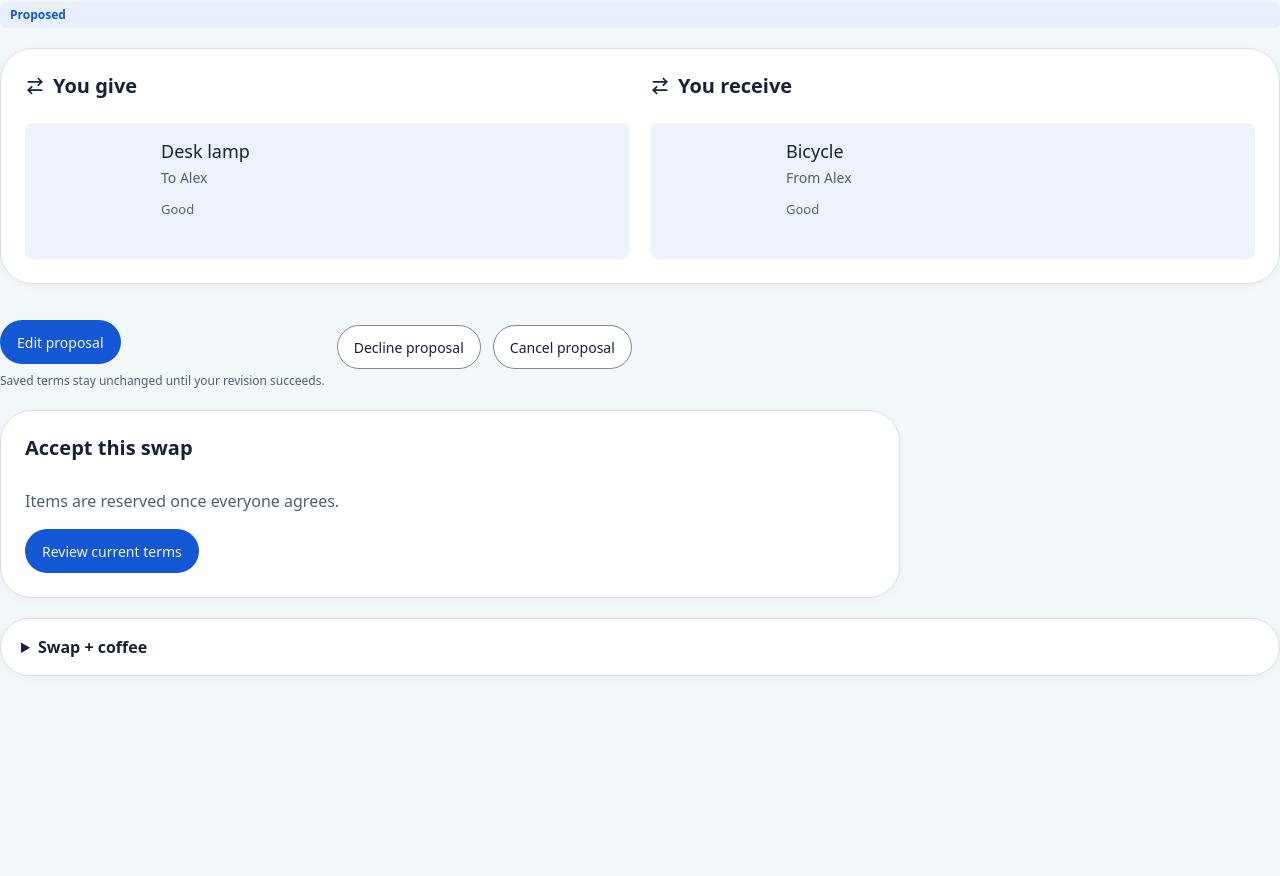
Test case: failed current-term refresh keeps the reviewed context and blocks acceptance until fresh review
This screenshot has width=1280, height=876.
Click the button "Review current terms": point(112, 551) x1=25 y1=529 x2=199 y2=573
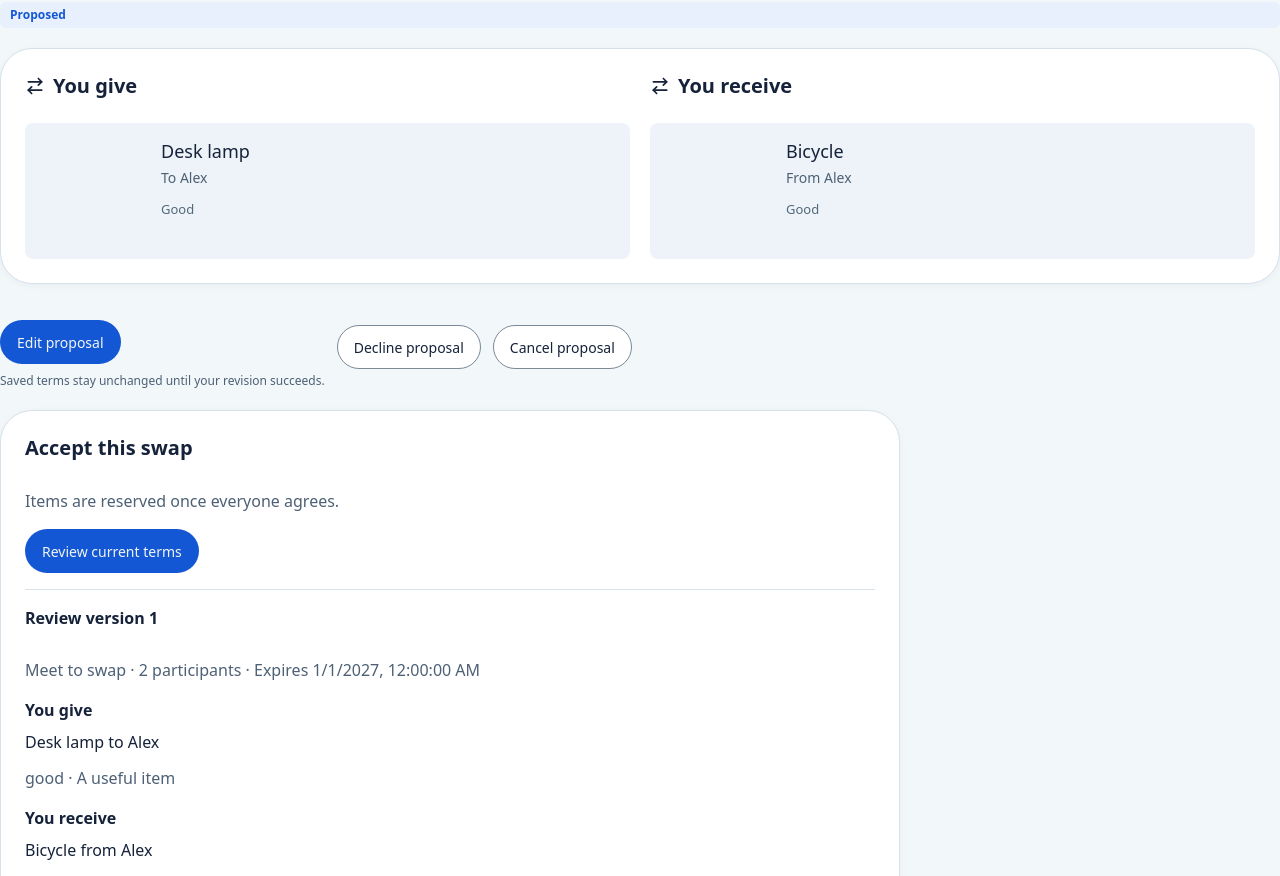
Click the button "Review current terms": point(112, 551) x1=25 y1=529 x2=199 y2=573
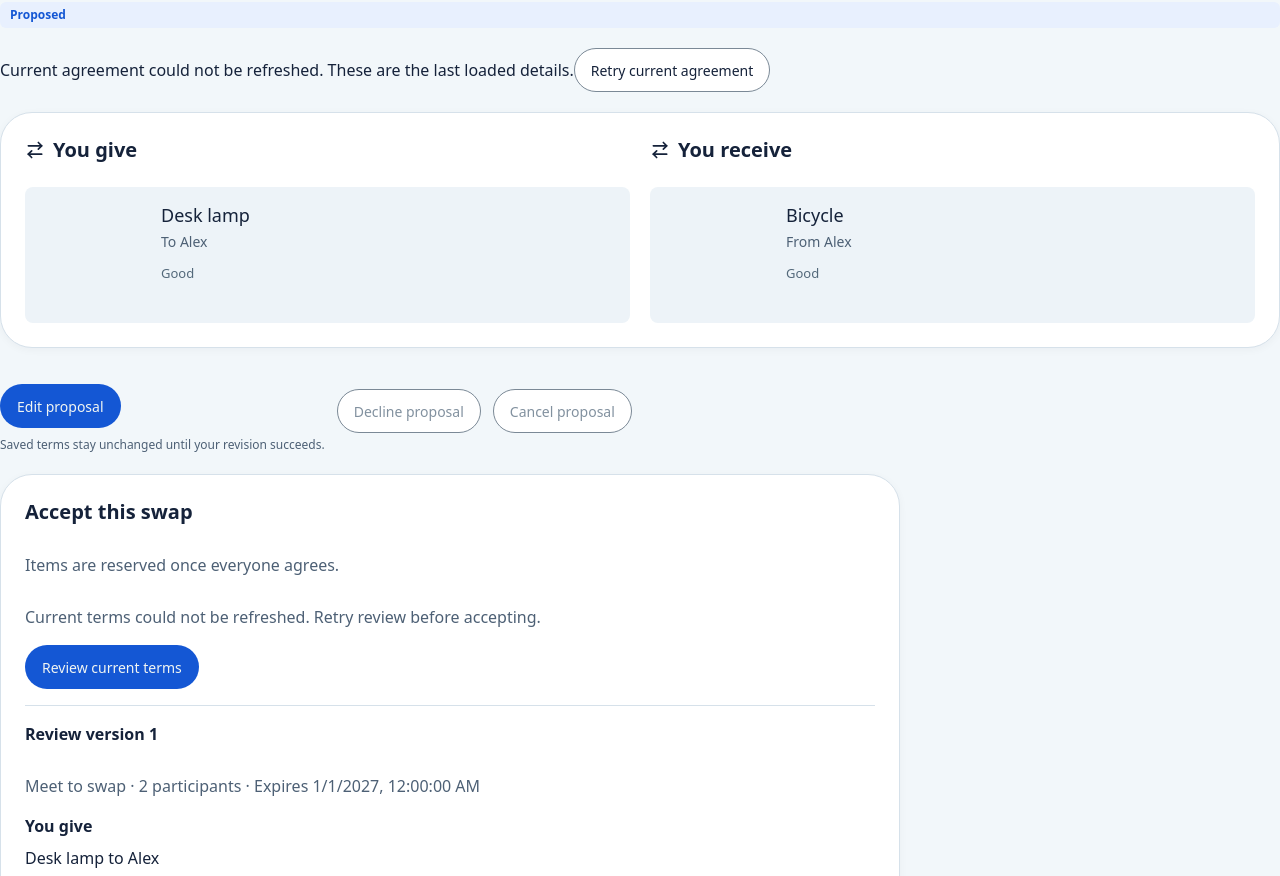
Expected: the text "Current terms could not be refreshed. Retry review before accepting." is shown, x1=25 y1=606 x2=541 y2=628
Click the button "Review current terms": point(112, 667) x1=25 y1=645 x2=199 y2=689
(page scrolled)
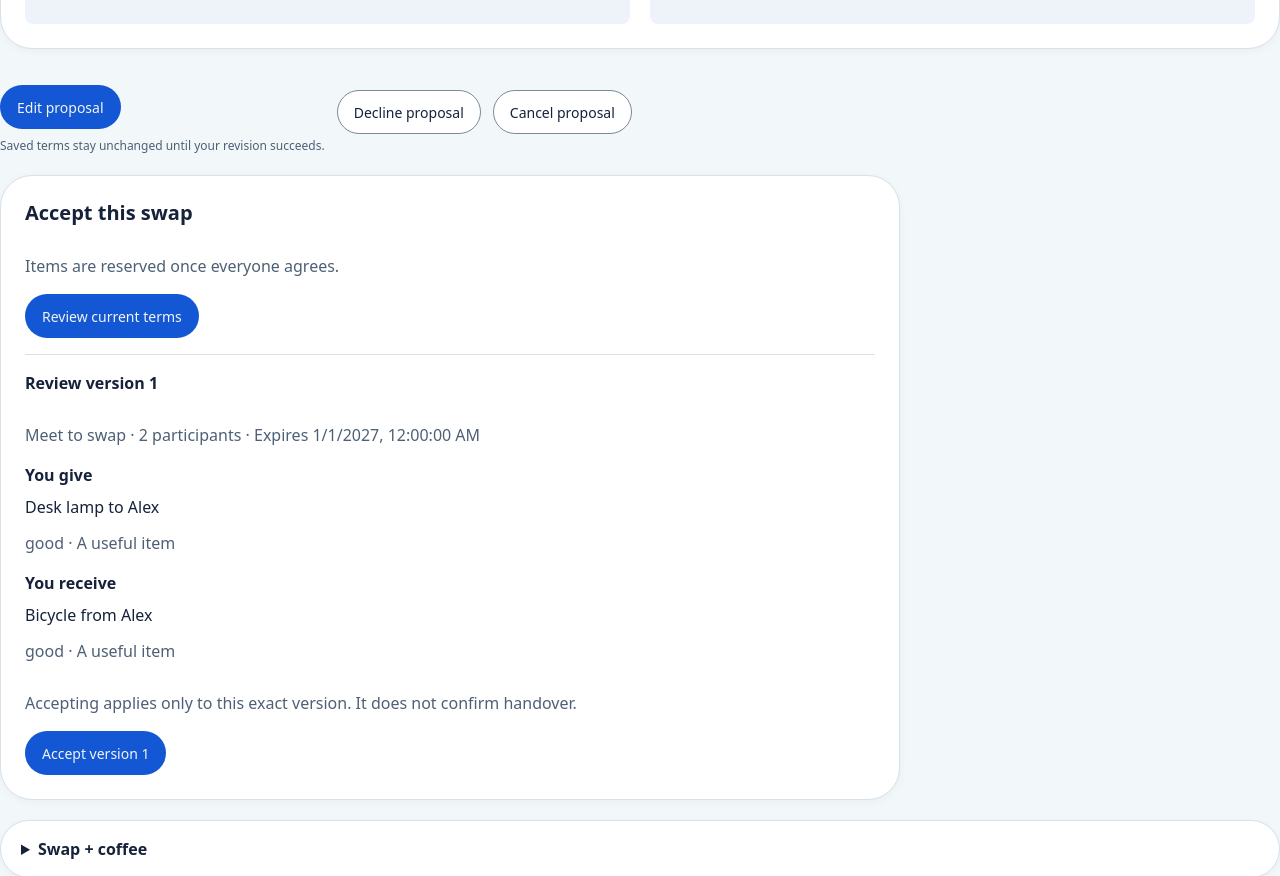
Expected: the button "Accept version 1" is enabled, x1=25 y1=731 x2=166 y2=775
